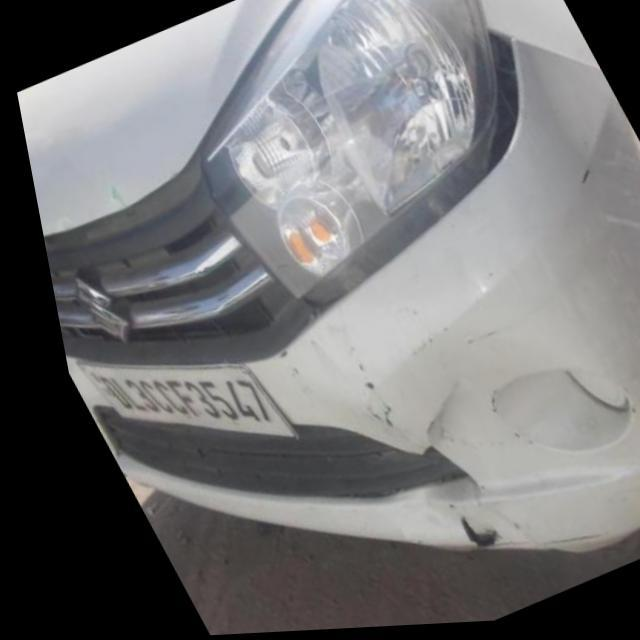crack: (427, 513, 479, 557)
scratch: (463, 525, 587, 555), (335, 354, 379, 436), (259, 352, 298, 398), (567, 163, 587, 197), (492, 431, 520, 455), (469, 390, 485, 425)
